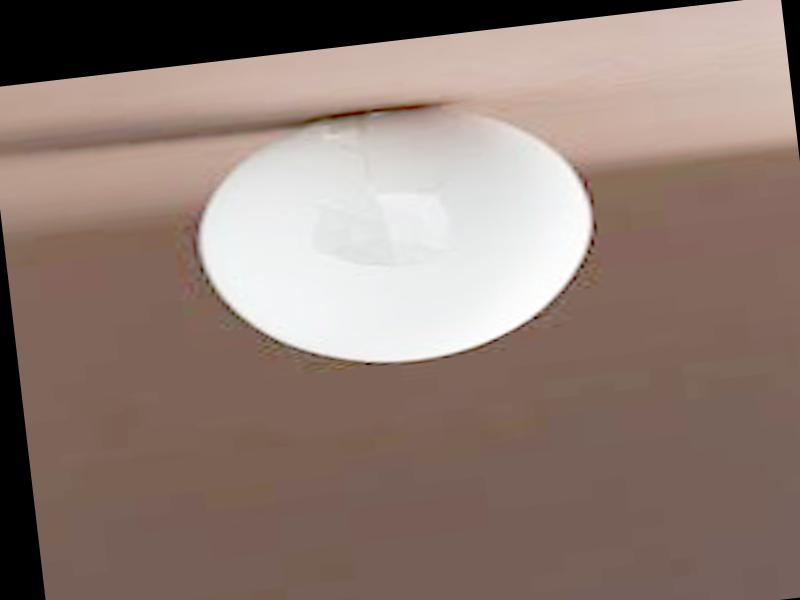Eggs: (193, 87, 604, 383)
